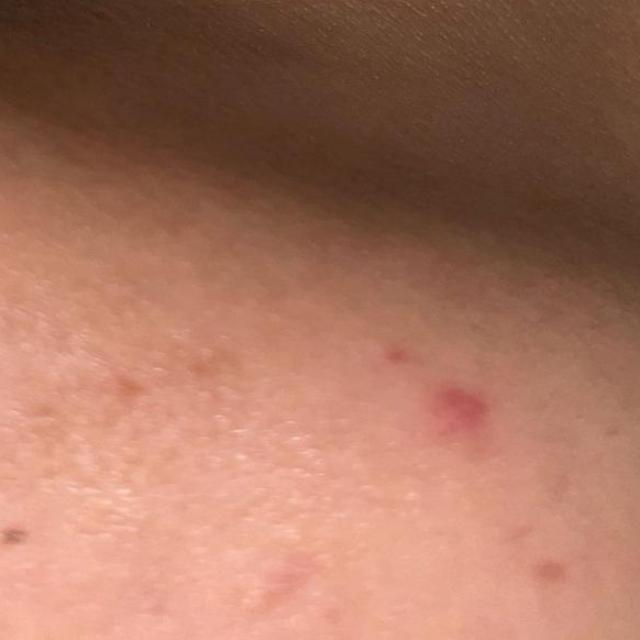papule: (366, 311, 507, 479)
